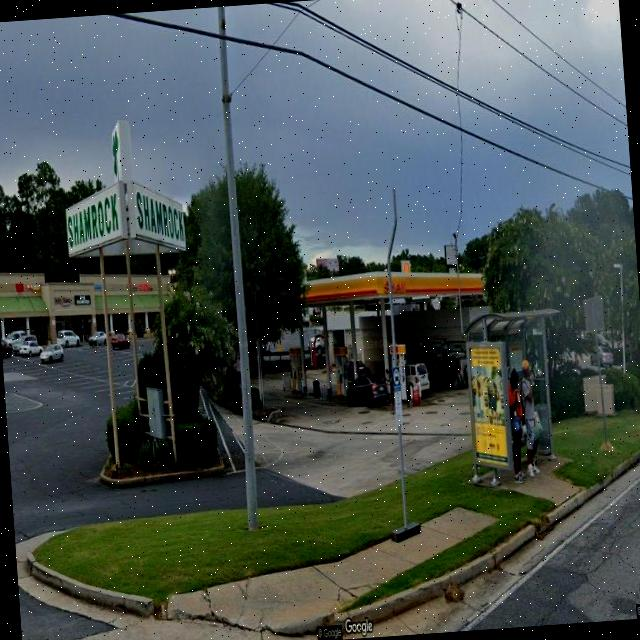shelter: (462, 304, 569, 486)
trash_can: (532, 402, 552, 456)
